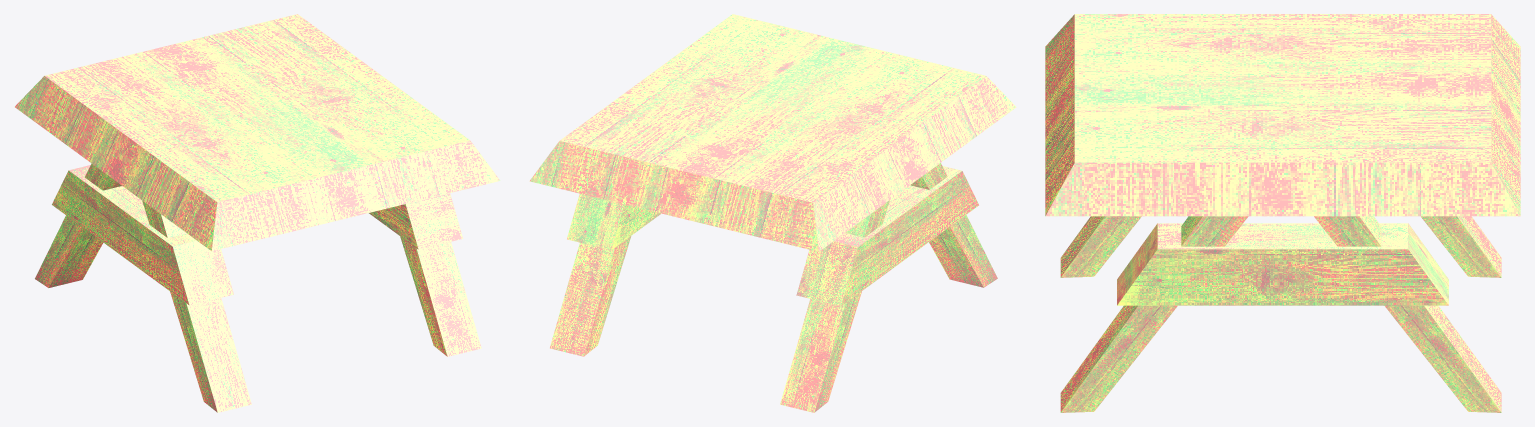
Rendered from bar_table.glb.
The picture shows the model from 3 angles, left to right: view 1: azimuth 30°, elevation 25°; view 2: azimuth 150°, elevation 25°; view 3: azimuth 270°, elevation 25°; orthographic projection. The views are drawn at different scales.
Parts seen in each view (by area): view 1: bar_table; view 2: bar_table; view 3: bar_table.
Boxes of the visible parts, bbox=[...] form: bar_table: bbox=[15, 14, 500, 412]; bar_table: bbox=[529, 14, 1016, 412]; bar_table: bbox=[1045, 14, 1520, 412].
Bounding box in the file's own units: 1.69 × 1.15 × 2.
